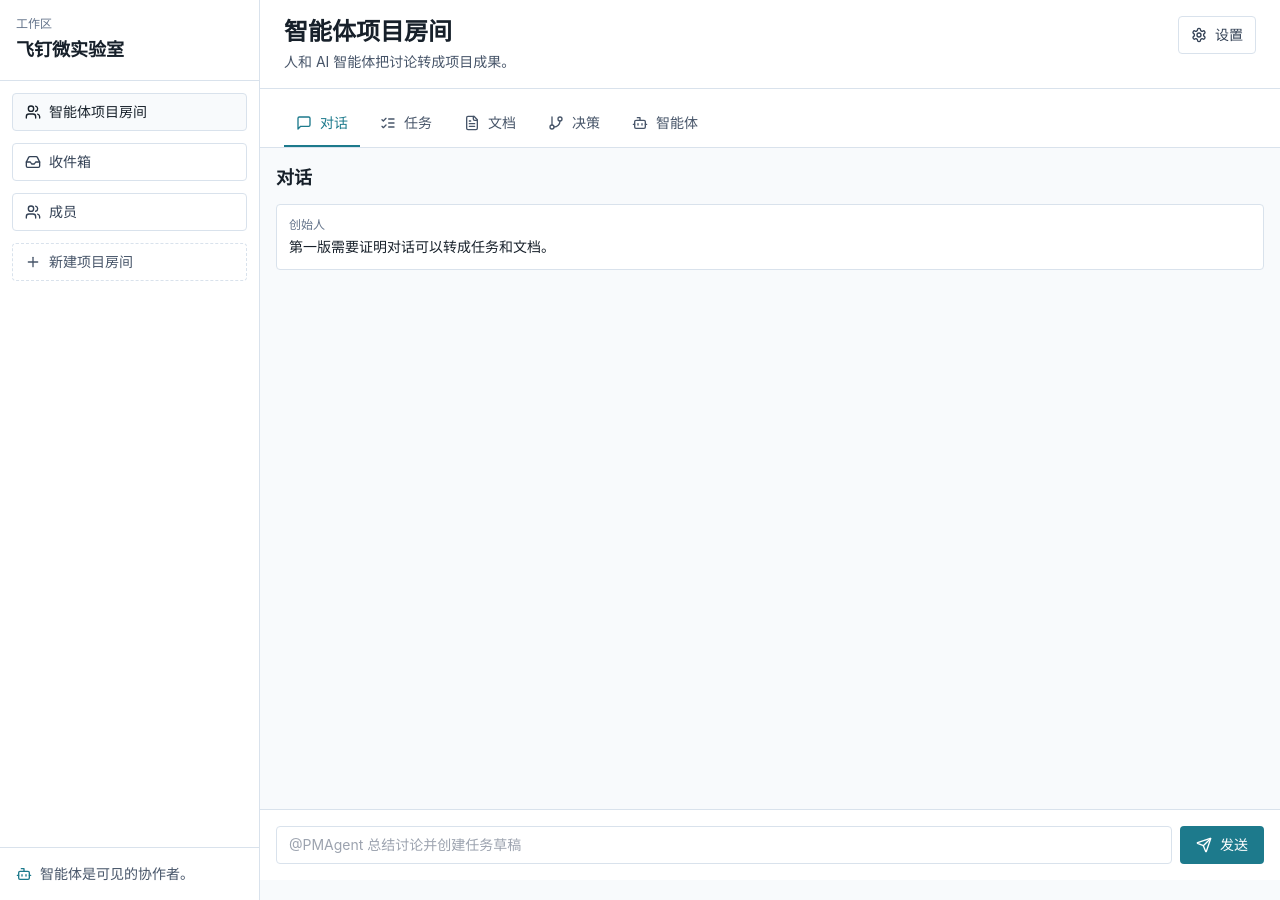
Test case: ProjectRoom › defaults the whole room to Chinese and moves language switching into settings
The width and height of the screenshot is (1280, 900).
Check: the text "飞钉微实验室" is shown, box [16,39,124,60]
Check: the heading "智能体项目房间" is shown, box [284,17,452,46]
Click the button "设置".
click(1217, 35)  # box [1178,16,1256,54]
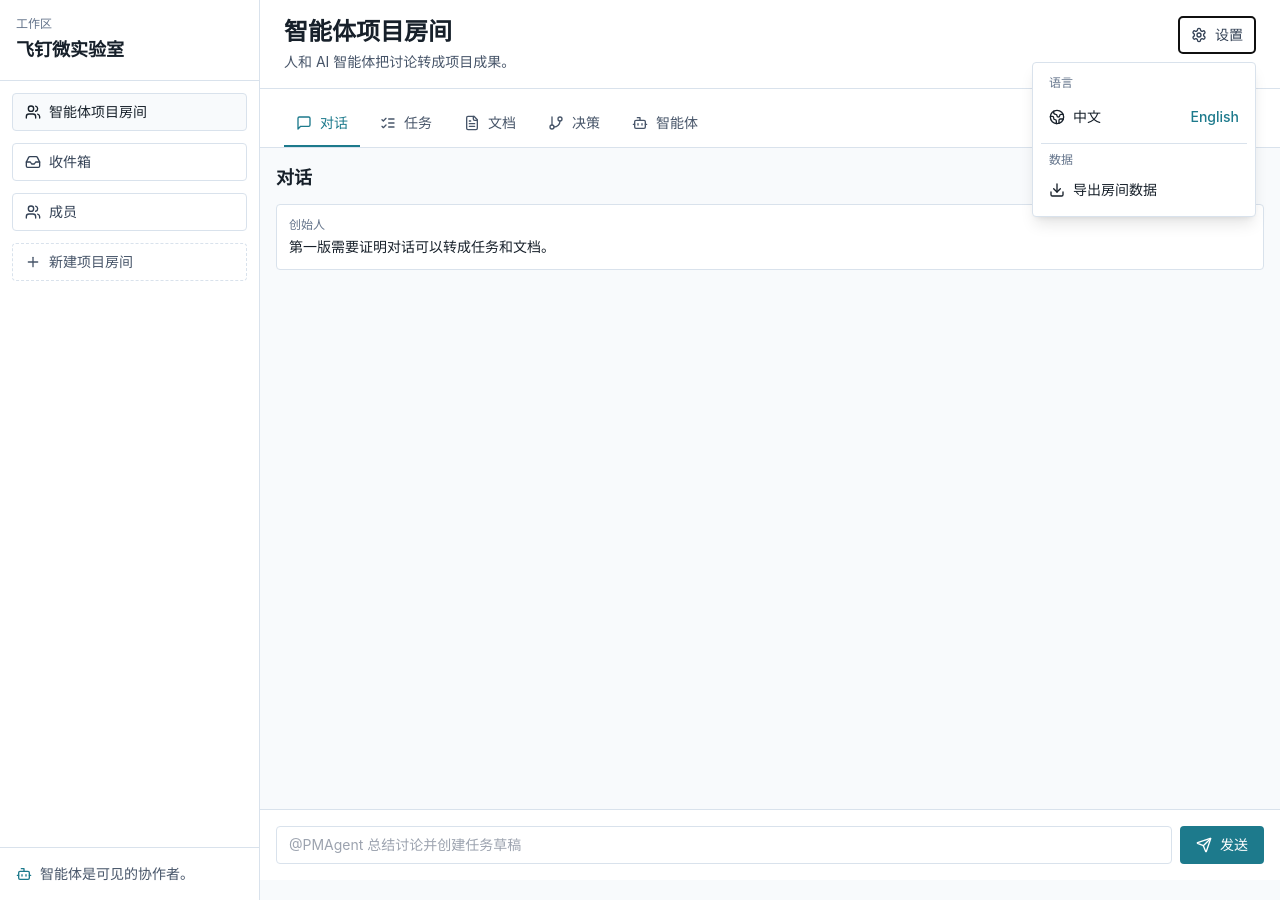
Check: the text "语言" is shown, box [1049,75,1073,90]
Click the menu item "中文 English".
click(1144, 117)  # box [1041,99,1247,135]
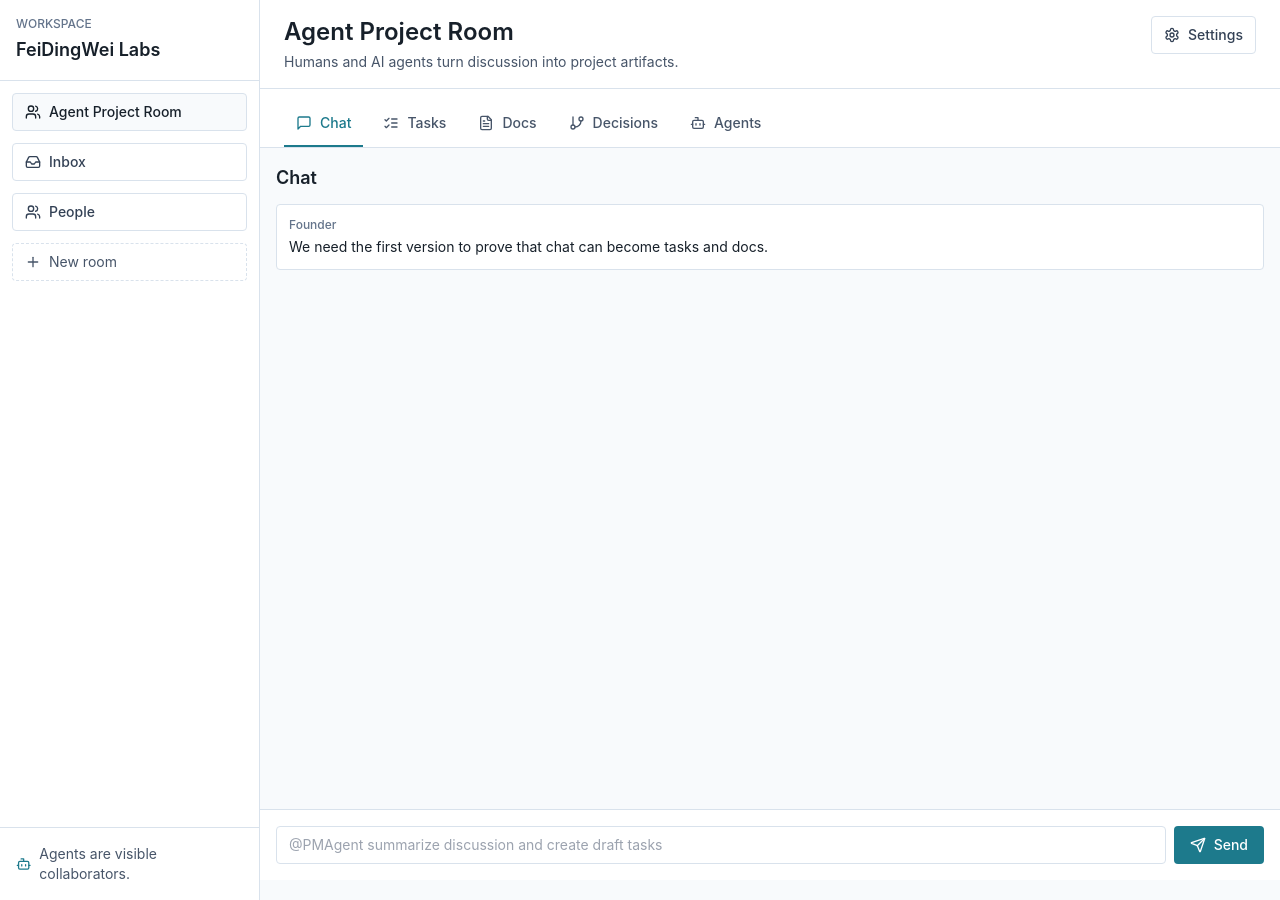
Check: the text "FeiDingWei Labs" is shown, box [16,39,160,60]
Check: the heading "Agent Project Room" is shown, box [284,17,514,46]
Check: the text "Humans and AI agents turn discussion into project artifacts." is shown, box [284,52,678,72]
